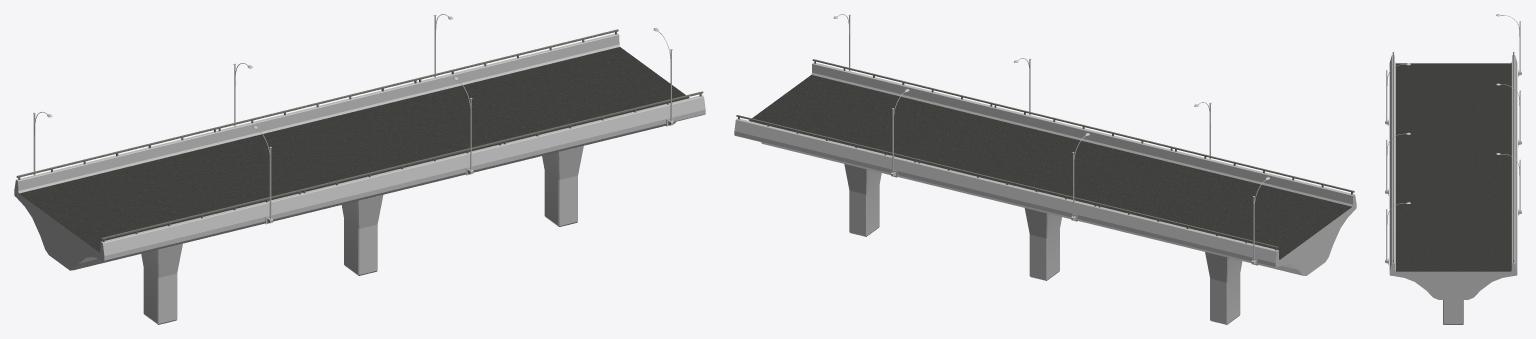
Rendered from CIV_HW_offramp_straight_003.fbx.
3 renders of one model, left to right at view 1: azimuth 30°, elevation 25°; view 2: azimuth 150°, elevation 25°; view 3: azimuth 270°, elevation 25°, orthographic. The views are drawn at different scales.
Visible parts, largest first — view 1: CIV_HW_offramp_straight_003; view 2: CIV_HW_offramp_straight_003; view 3: CIV_HW_offramp_straight_003.
Part boxes in pixels (bbox=[...]): CIV_HW_offramp_straight_003: bbox=[14, 14, 705, 324]; CIV_HW_offramp_straight_003: bbox=[734, 14, 1356, 324]; CIV_HW_offramp_straight_003: bbox=[1385, 14, 1521, 324].
Size of the model in its own units: 4608 by 1458 by 1278.
